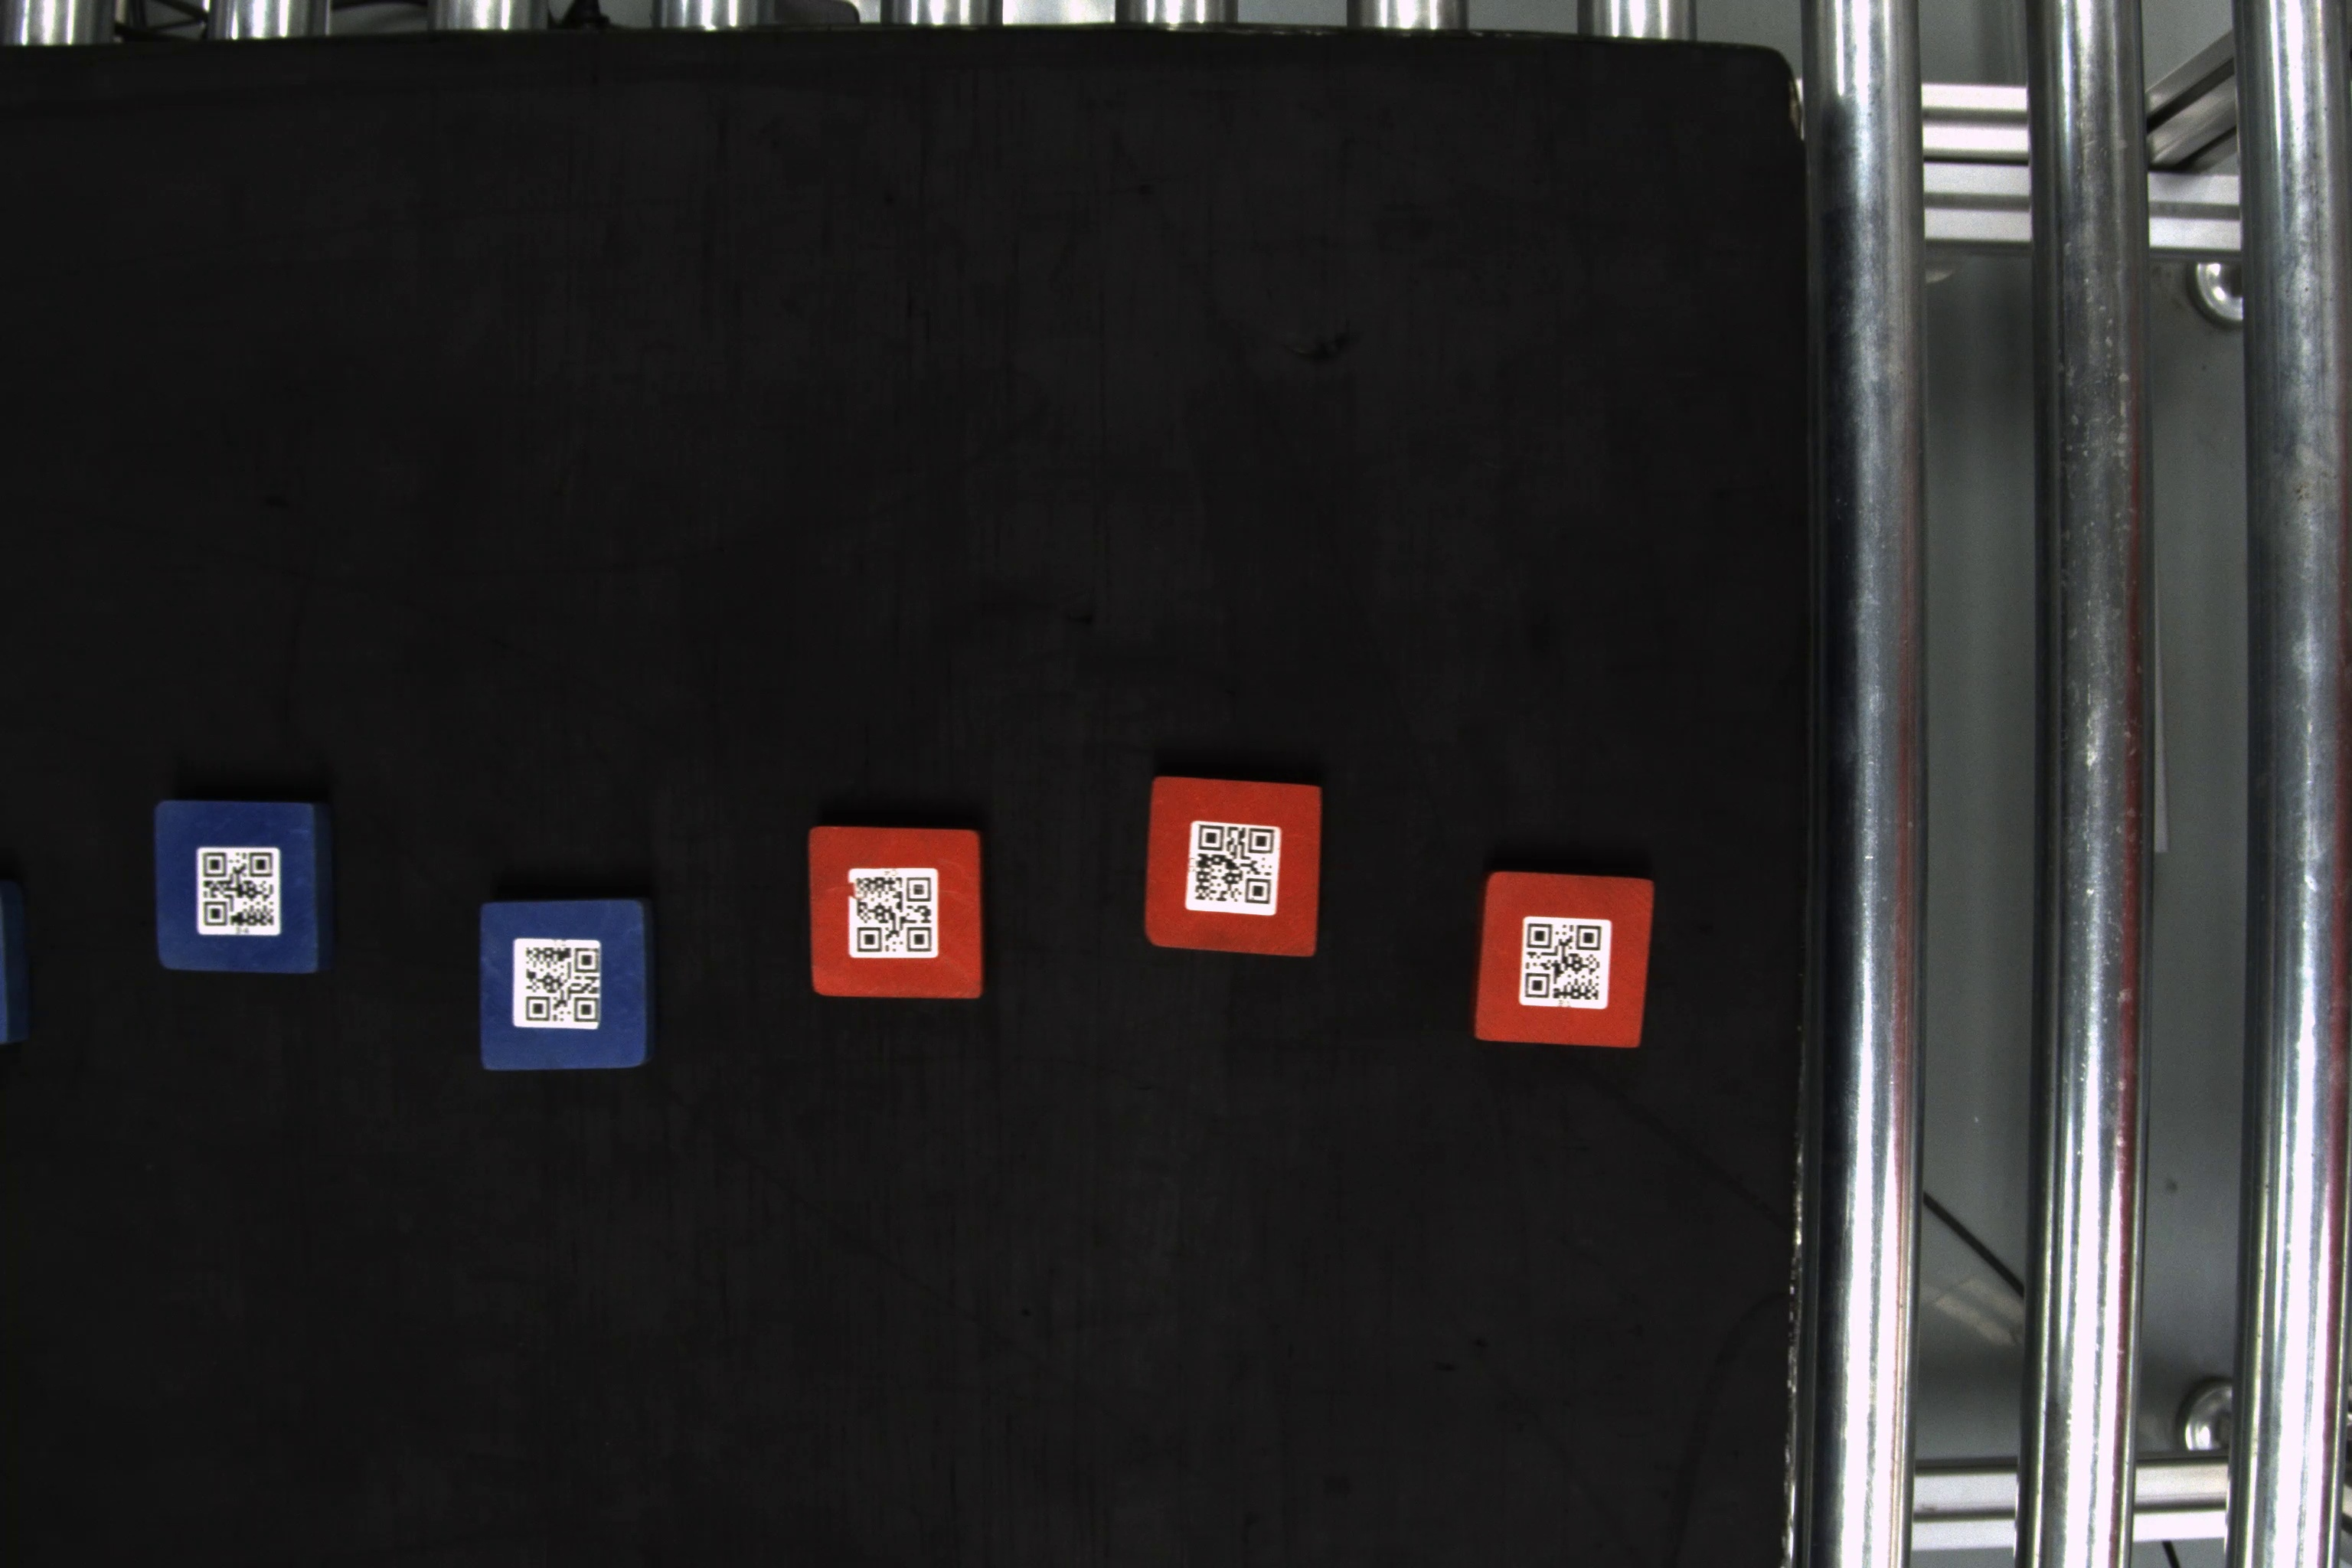wood: (1144, 763, 1332, 966), (145, 794, 339, 980), (1470, 864, 1657, 1053), (801, 822, 989, 1008), (481, 894, 656, 1071)
